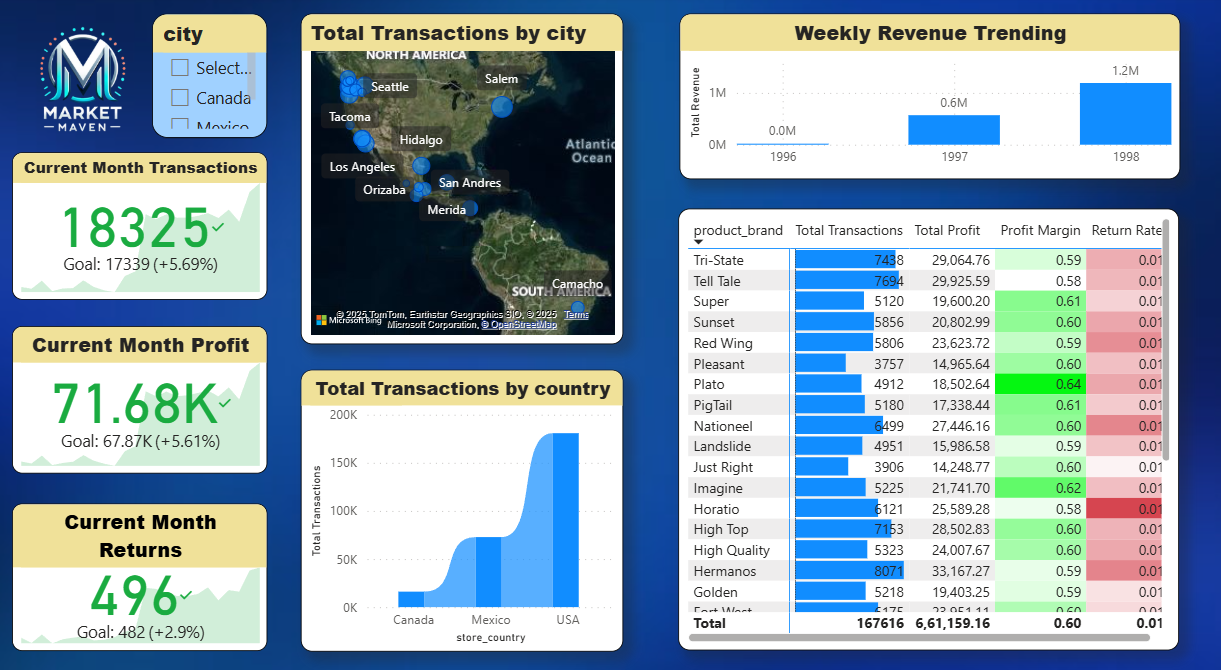

Layout of this report page (visuals, bound fields, positions):
{"tool":"powerbi","page":{"name":"Topline Performance","canvas":[1280,720],"ordinal":0},"visuals":[{"type":"image","box":[0,0,165.2,165.2],"z":0},{"type":"pivotTable","fields":{"Rows":["Products.product_brand"],"Values":["Transaction_Data.Total Transactions","Transaction_Data.Total Profit","Transaction_Data.Profit Margin","Transaction_Data.Return Rate"]},"box":[657.8,205.6,483.3,426.7],"z":1000},{"type":"kpi","title":"Current Month Transactions","fields":{"Indicator":["Transaction_Data.Total Transactions"],"TrendLine":["Calender.Start of Month"],"Goal":["Transaction_Data.Last Month Transactions"]},"box":[14.4,151.1,246.7,142.2],"z":2000},{"type":"kpi","title":"Current Month Profit","fields":{"TrendLine":["Calender.Start of Month"],"Goal":["Transaction_Data.Last Month Profit"],"Indicator":["Transaction_Data.Total Profit"]},"box":[14.4,318.9,246.7,142.2],"z":3000},{"type":"kpi","title":"Current Month Returns","fields":{"TrendLine":["Calender.Start of Month"],"Goal":["Transaction_Data.Last Month Returns"],"Indicator":["Return_Data.Total Returns"]},"box":[14.4,490,246.7,142.2],"z":4000},{"type":"map","title":"Total Transactions by city","fields":{"Category":["Stores.store_city"],"Size":["Transaction_Data.Total Transactions"]},"box":[293.3,16.7,311.1,318.9],"z":5000},{"type":"slicer","title":"city","fields":{"Values":["Stores.store_country"]},"box":[150,16.7,111.1,120],"z":6000},{"type":"ribbonChart","title":"Total Transactions by country","fields":{"Category":["Stores.store_country","Stores.store_state","Stores.store_city"],"Y":["Transaction_Data.Total Transactions"]},"box":[293.3,360,311.1,272.2],"z":7000},{"type":"clusteredColumnChart","title":"Weekly Revenue Trending","fields":{"Category":["Calender.Start of Week.Variation.Date Hierarchy.Year","Calender.Start of Week.Variation.Date Hierarchy.Quarter","Calender.Start of Week.Variation.Date Hierarchy.Month","Calender.Start of Week.Variation.Date Hierarchy.Day"],"Y":["Transaction_Data.Total Revenue"]},"box":[658,17,483,160],"z":8000}]}

Visuals, with their boxes in screenshot pixels (x1, y1, x2, y2), scaled from the page's 1280x720 canvas onto the 1221x670 screenshot:
image: {"x1": 0, "y1": 0, "x2": 158, "y2": 154}
pivotTable - Products.product_brand x Transaction_Data.Total Transactions: {"x1": 627, "y1": 191, "x2": 1089, "y2": 588}
"Current Month Transactions" kpi: {"x1": 14, "y1": 141, "x2": 249, "y2": 273}
"Current Month Profit" kpi: {"x1": 14, "y1": 297, "x2": 249, "y2": 429}
"Current Month Returns" kpi: {"x1": 14, "y1": 456, "x2": 249, "y2": 588}
"Total Transactions by city" map: {"x1": 280, "y1": 16, "x2": 577, "y2": 312}
"city" slicer: {"x1": 143, "y1": 16, "x2": 249, "y2": 127}
"Total Transactions by country" ribbonChart: {"x1": 280, "y1": 335, "x2": 577, "y2": 588}
"Weekly Revenue Trending" clusteredColumnChart: {"x1": 628, "y1": 16, "x2": 1088, "y2": 165}
